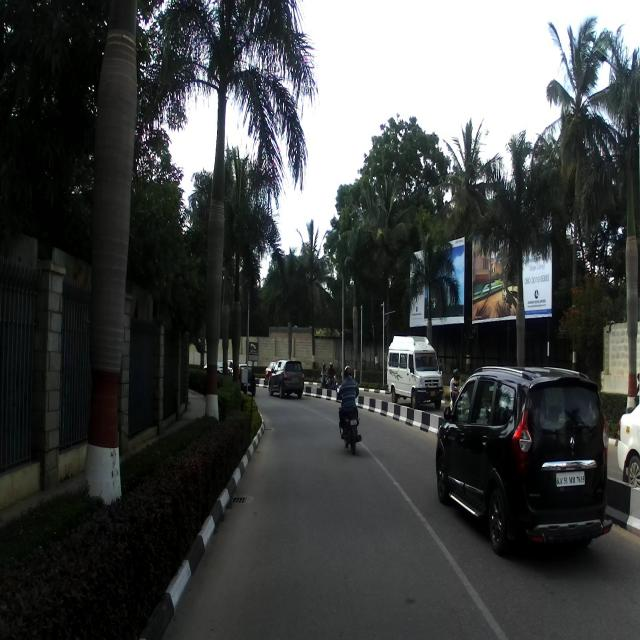Car_Renault: (432, 362, 610, 558)
mini-bus: (386, 334, 443, 415)
